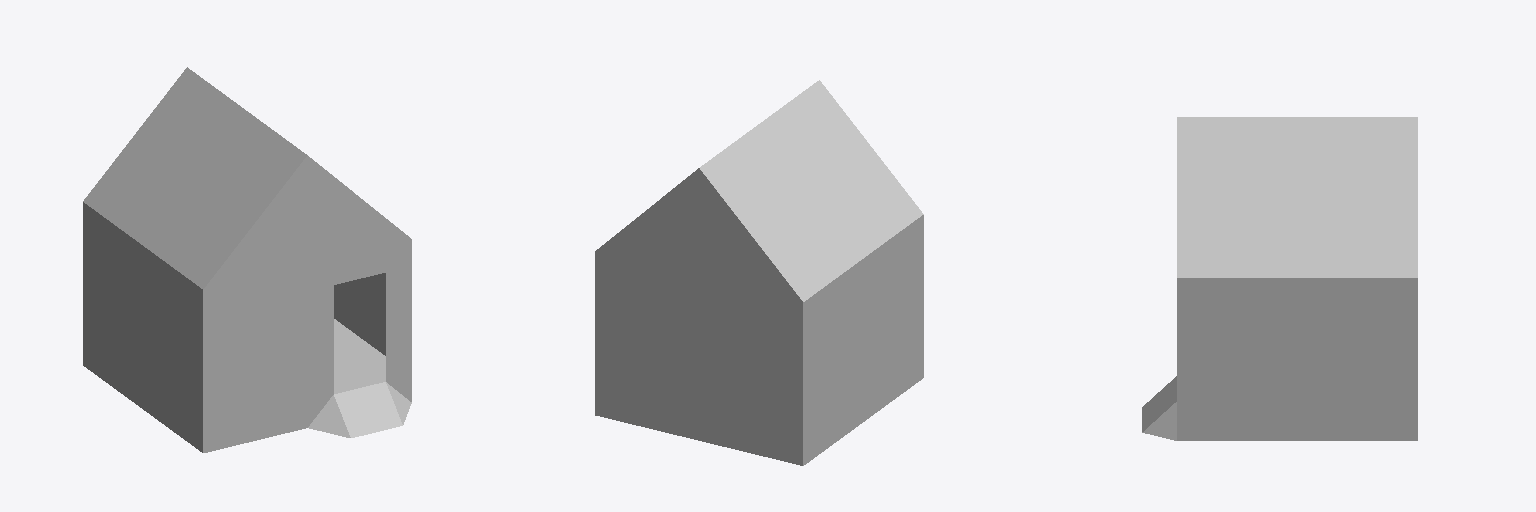
File: sm_house_ccv.obj
3 views of the same model, side by side, from view 1: azimuth 30°, elevation 25°; view 2: azimuth 150°, elevation 25°; view 3: azimuth 270°, elevation 25° (orthographic).
Visible parts, largest first — view 1: house_ccv; view 2: house_ccv; view 3: house_ccv.
Part boxes in pixels (bbox=[...]): house_ccv: bbox=[83, 67, 411, 452]; house_ccv: bbox=[595, 80, 923, 465]; house_ccv: bbox=[1142, 117, 1417, 440].
Size of the model in its own units: 8 by 10.15 by 9.15.